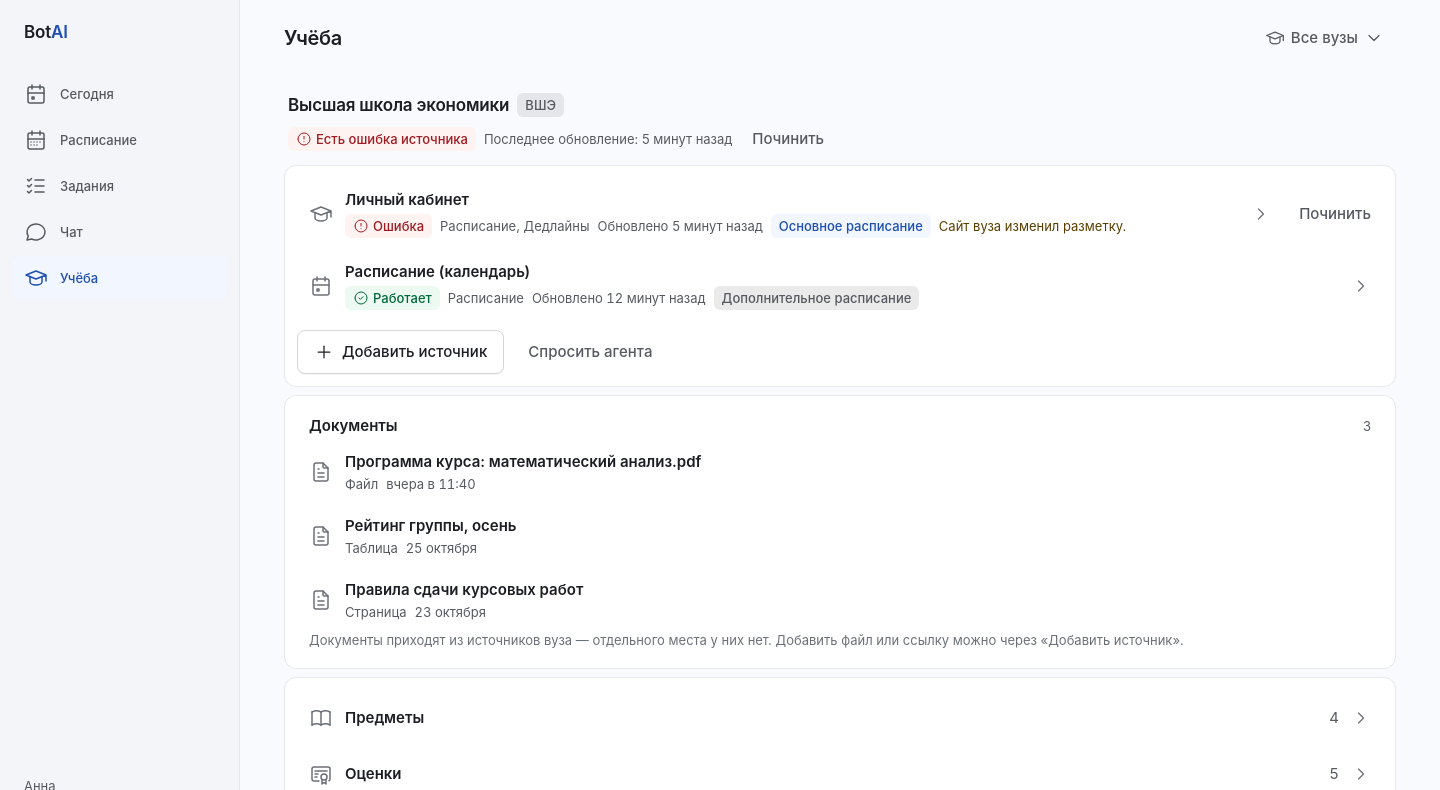
Test case: карточка источника › сломанный источник: «Починить» вызывает починку и возвращает статус
Click the button with aria-label "Личный кабинет:" at x=790, y=214, box [297,178,1283,250]
(page scrolled)
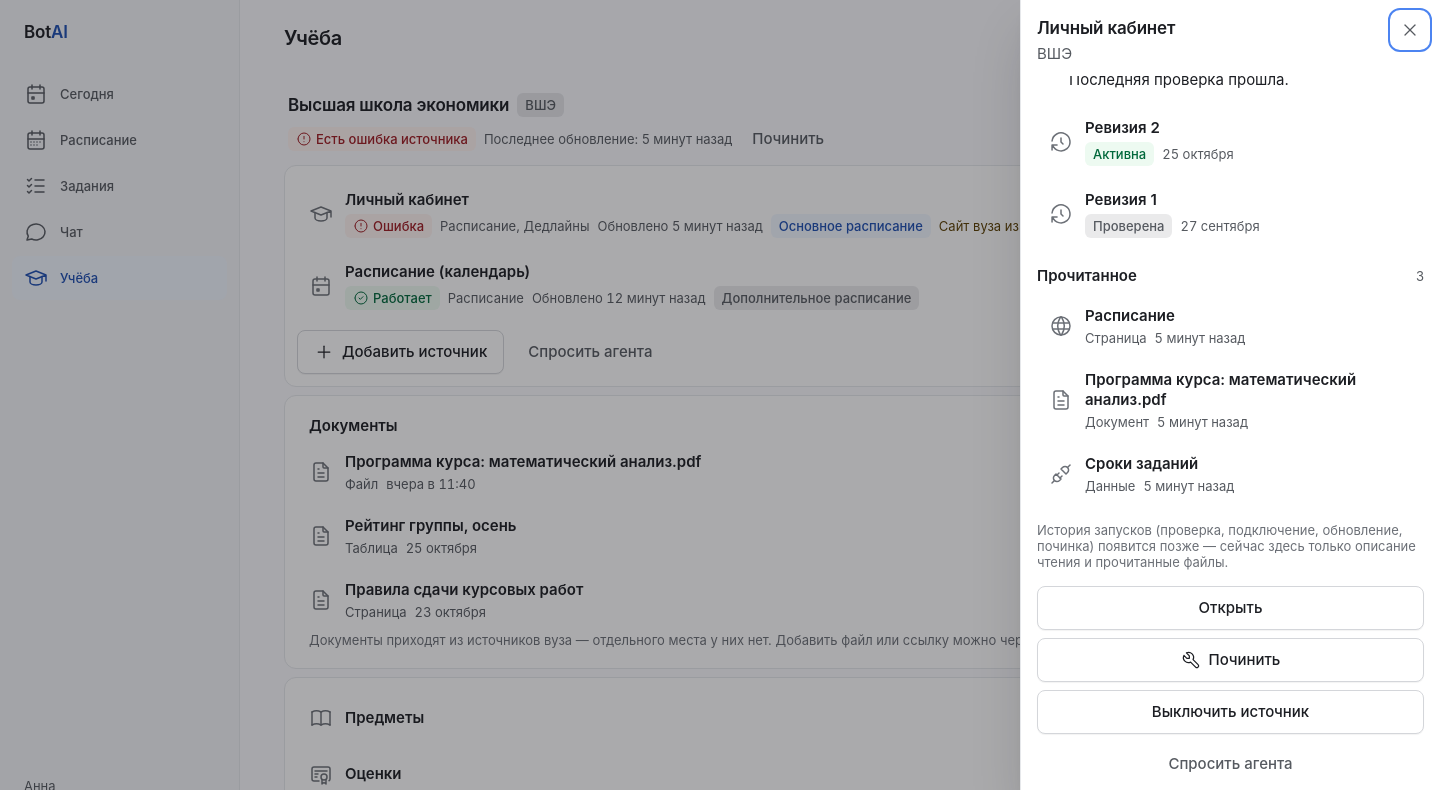
Click the button "Починить" at x=1230, y=660, box [1037,638,1424,682]
(page scrolled)
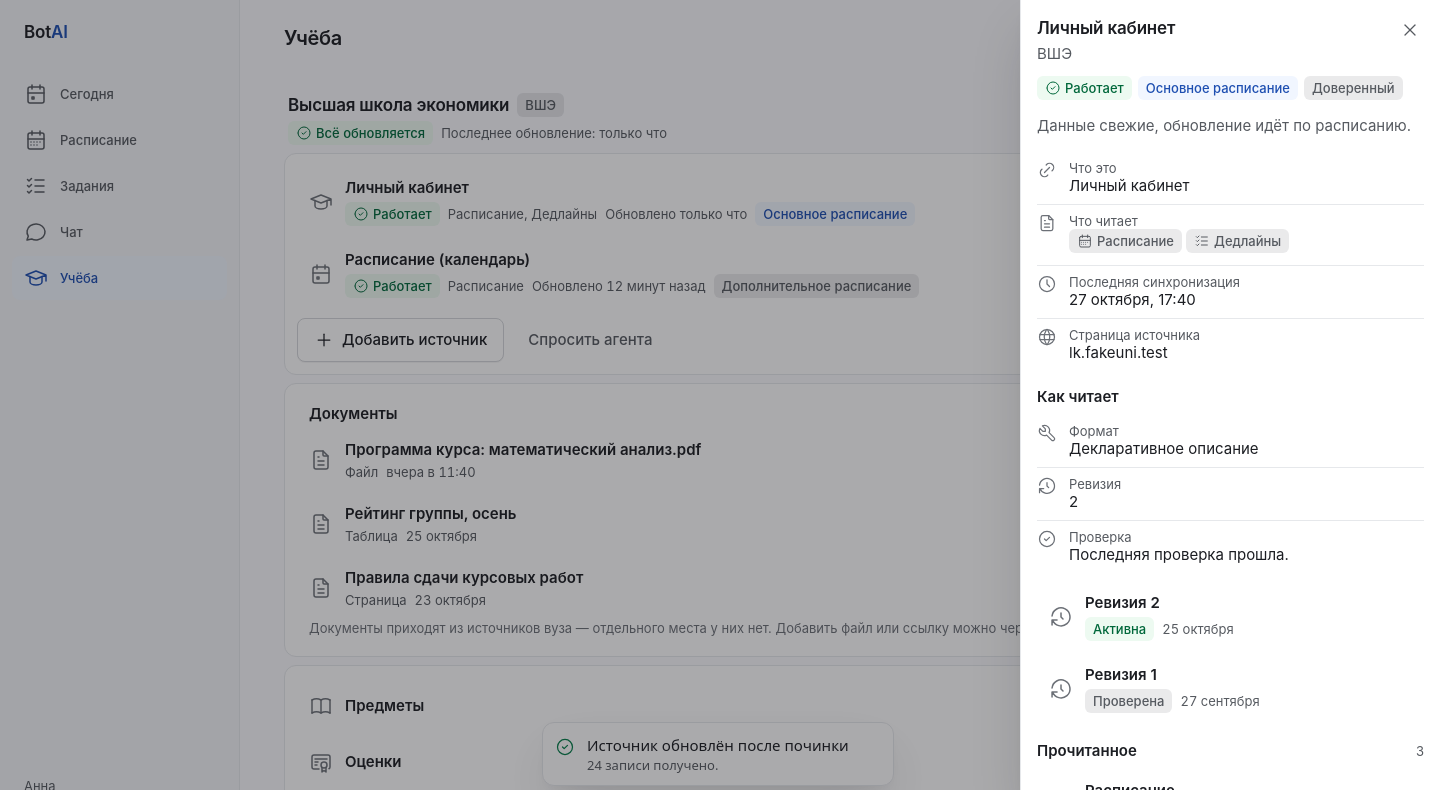
Result: the text "Источник обновлён после починки" is shown at [587,735,881,755]
Result: the text "Работает" is shown at [1037,76,1132,100]
